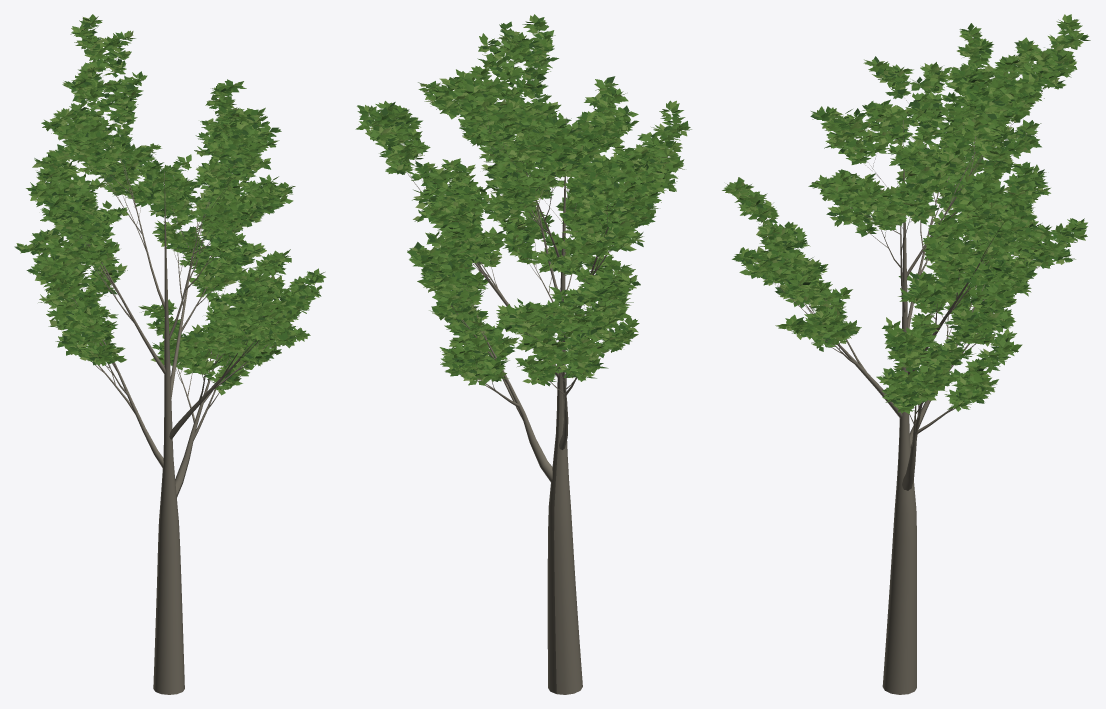
Rendered from tree_01.glb.
3 views of the same model, side by side, from view 1: azimuth 30°, elevation 25°; view 2: azimuth 150°, elevation 25°; view 3: azimuth 270°, elevation 25° (orthographic). The views are drawn at different scales.
Parts seen in each view (by area): view 1: Tree_01_leaf_clusters, Tree_01_trunk_branches; view 2: Tree_01_leaf_clusters, Tree_01_trunk_branches; view 3: Tree_01_leaf_clusters, Tree_01_trunk_branches.
Part boxes in pixels (x1,y1,x2,y2): Tree_01_leaf_clusters: (14,14,326,395); Tree_01_trunk_branches: (34,39,307,694); Tree_01_leaf_clusters: (355,14,691,386); Tree_01_trunk_branches: (369,32,673,694); Tree_01_leaf_clusters: (722,14,1090,414); Tree_01_trunk_branches: (735,31,1074,694).
Size of the model in its own units: 4.58 by 10.41 by 5.22.
